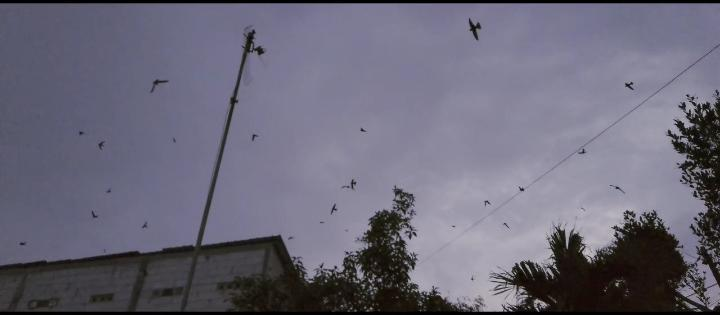walet: (466, 17, 486, 42), (148, 76, 170, 91), (625, 81, 633, 91), (330, 202, 336, 214)
